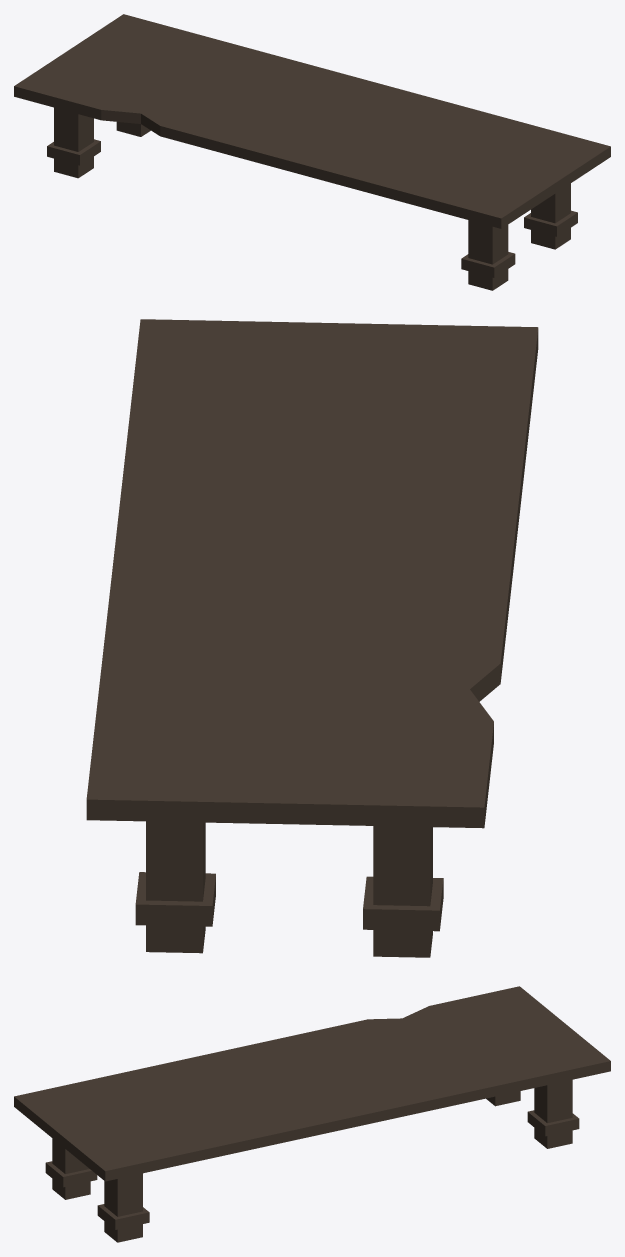
The model's file is miniTable.fbx.
The picture shows the model from 3 angles, top to bottom: view 1: azimuth 30°, elevation 25°; view 2: azimuth 150°, elevation 25°; view 3: azimuth 270°, elevation 25°; orthographic projection. The views are drawn at different scales.
Visible parts, largest first — view 1: mesita_ratona; view 2: mesita_ratona; view 3: mesita_ratona.
Boxes of the visible parts, bbox=[...] form: mesita_ratona: bbox=[14, 14, 610, 290]; mesita_ratona: bbox=[86, 319, 538, 957]; mesita_ratona: bbox=[14, 986, 610, 1242].
Bounding box in the file's own units: 262 × 57.85 × 357.
